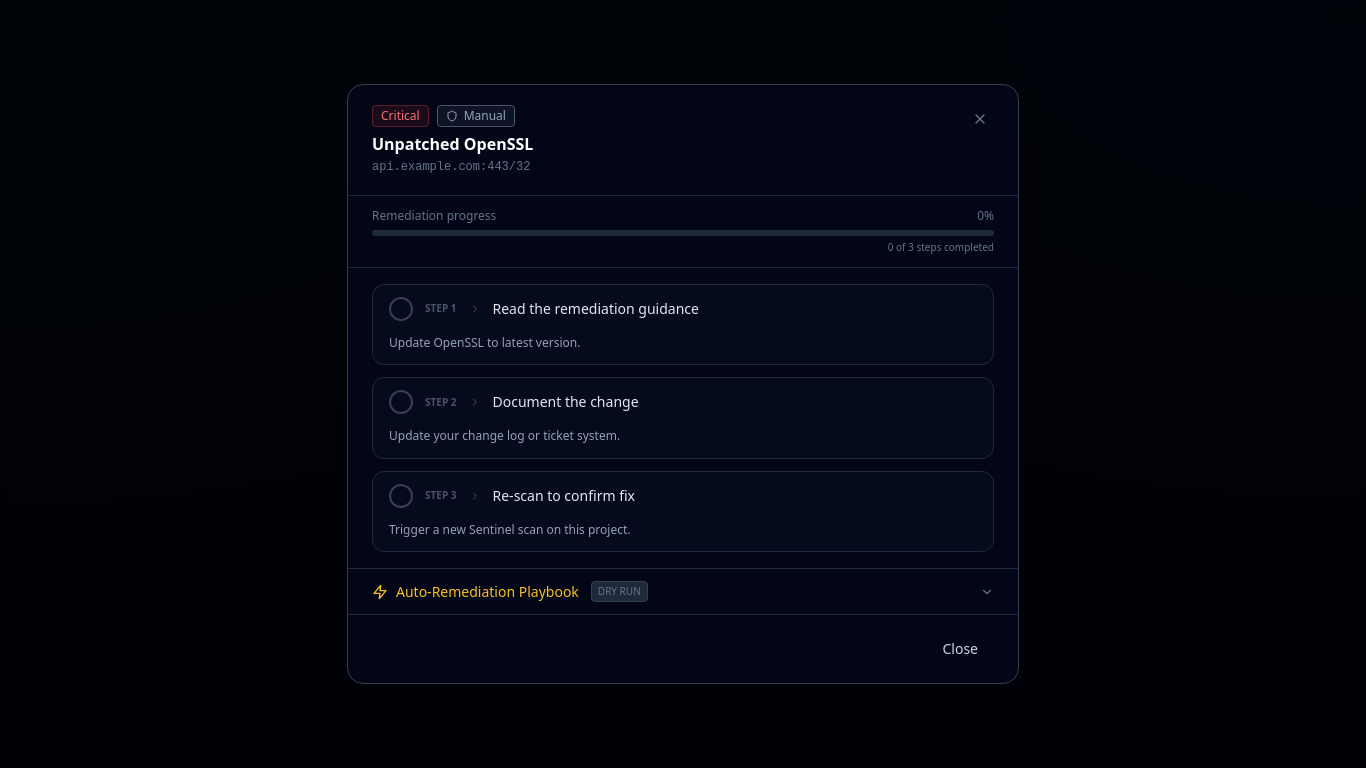
RemediationModal — Auto-Remediation Playbook › uses dig-based iptables target for hostname assets with port and cidr suffixes
What coordinates should you click on to do the following:
click the text "Auto-Remediation Playbook"
I would click on:
 (487, 592)
Its box is [396,582,579,602].
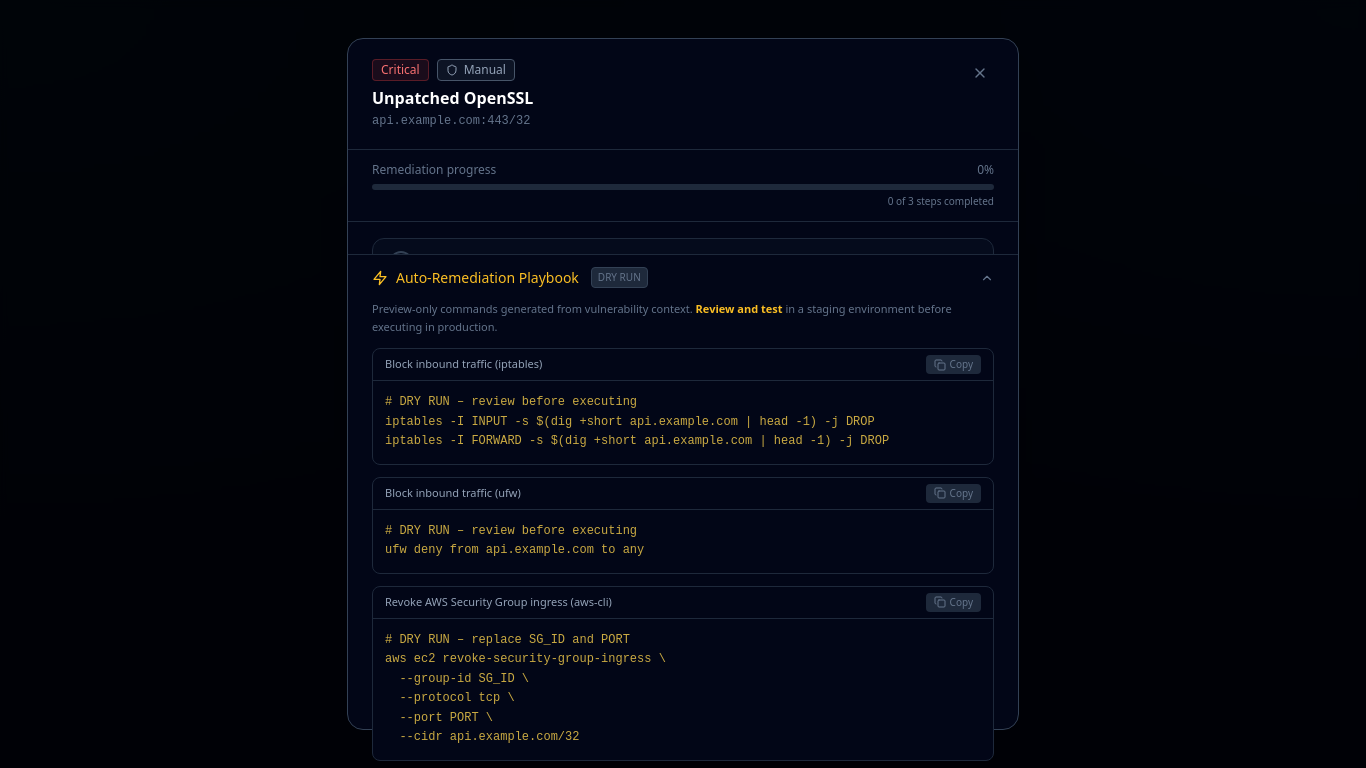
Now the text "$(dig +short api.example.com | head -1)" is shown, box [385,395,889,448]
Now the text "ufw deny from api.example.com to any" is shown, box [385,524,644,557]
